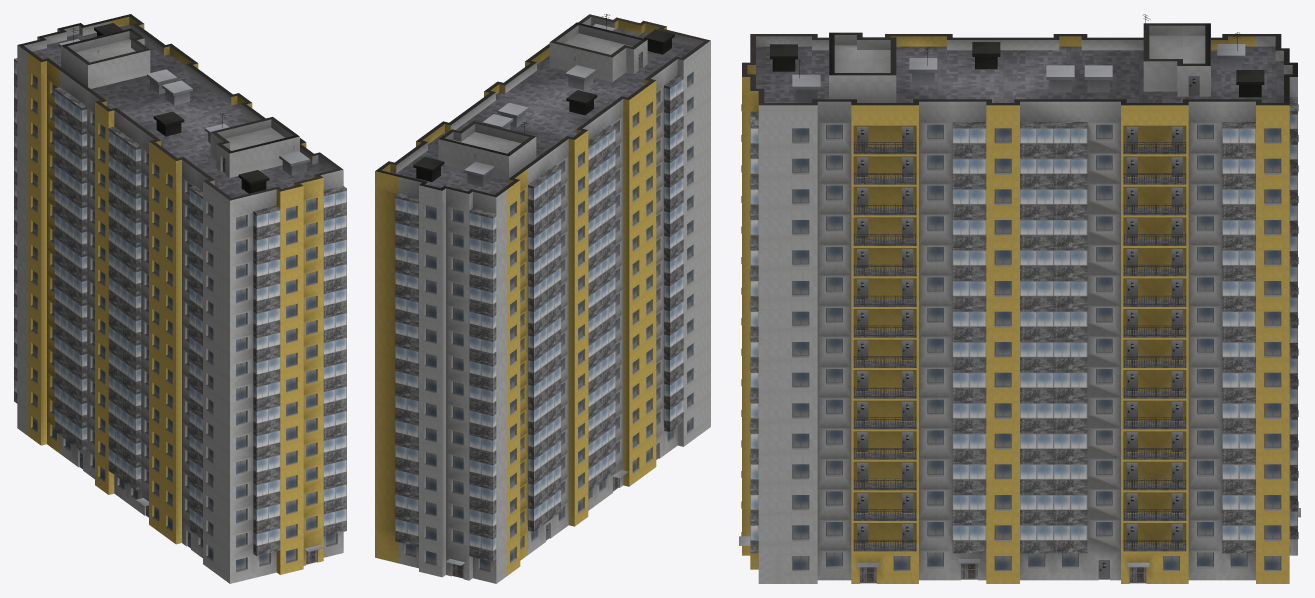
File: bld_a16.glb
3 renders of one model, left to right at view 1: azimuth 30°, elevation 25°; view 2: azimuth 150°, elevation 25°; view 3: azimuth 270°, elevation 25°, orthographic. The views are drawn at different scales.
Visible parts, largest first — view 1: body|TextureForCheloveynik; view 2: body|TextureForCheloveynik; view 3: body|TextureForCheloveynik.
Boxes of the visible parts, x1=… form: body|TextureForCheloveynik: x1=14, y1=14, x2=346, y2=583; body|TextureForCheloveynik: x1=375, y1=14, x2=710, y2=583; body|TextureForCheloveynik: x1=739, y1=14, x2=1300, y2=583.
Size of the model in its own units: 16.25 by 50.5 by 50.
1 material, 1 textured.
